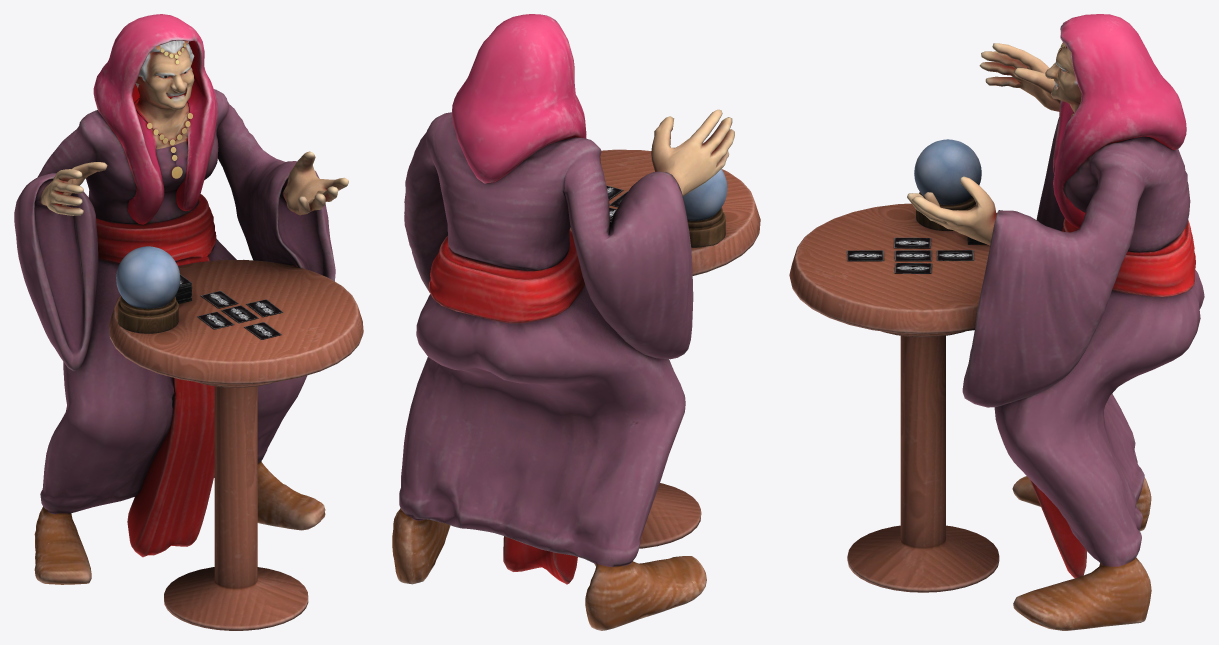
Rendered from MZ4250 - Madam Eva.glb.
3 renders of one model, left to right at view 1: azimuth 30°, elevation 25°; view 2: azimuth 150°, elevation 25°; view 3: azimuth 270°, elevation 25°, orthographic. The views are drawn at different scales.
Parts seen in each view (by area): view 1: default; view 2: default; view 3: default.
Part boxes in pixels (x1,y1,x2,y2): default: [14, 14, 363, 630]; default: [392, 14, 760, 630]; default: [789, 14, 1204, 630].
Size of the model in its own units: 0.5936 by 1.05 by 0.7147.
Materials: 1 (1 with a texture image).
